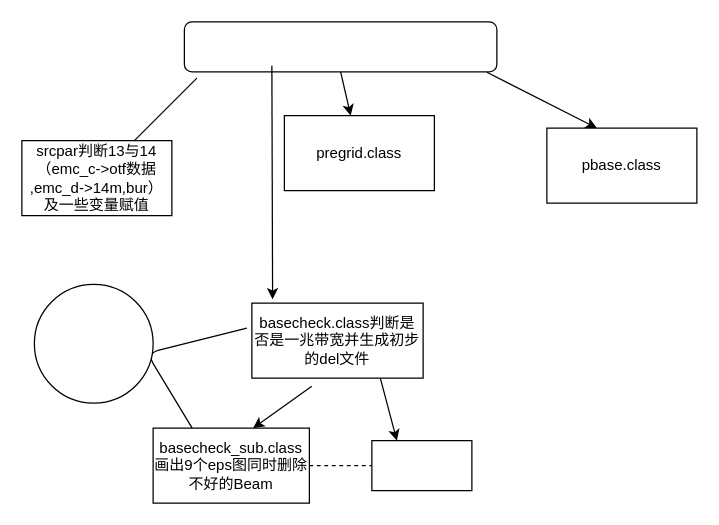
Some shapes in this 719 by 525 pixel diagram are drawn without their labels. The shapes that lost their labels are listed below. From the top down, each one's centre as x and y in pixels, then its label:
At point (340, 46): "14m2bur 2019 06 15 11".
At point (93, 343): "生成del并将坏的Beam删除文件和eps图".
At point (421, 465): "badtj.class算出删除率".
